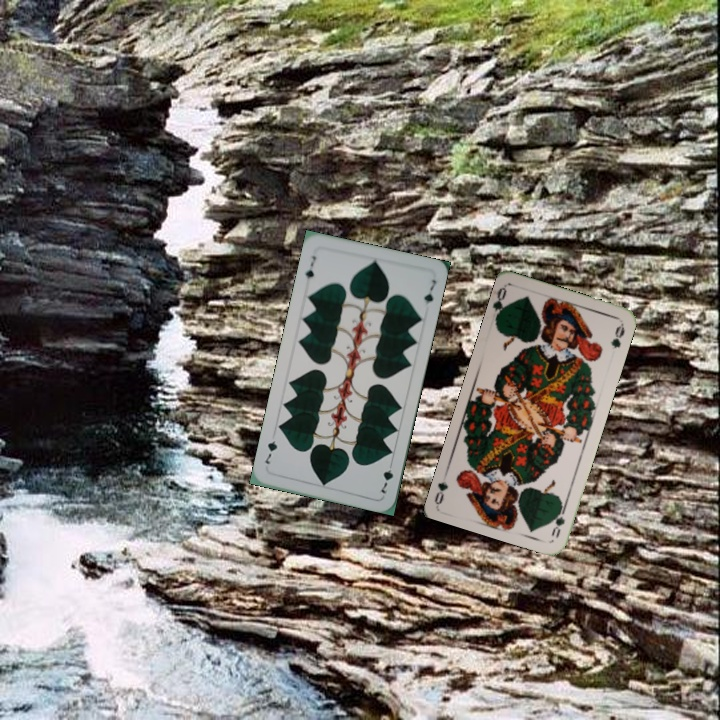G7: (377, 457, 396, 496), (301, 252, 319, 281)
GO: (547, 500, 569, 540), (490, 284, 511, 324)
